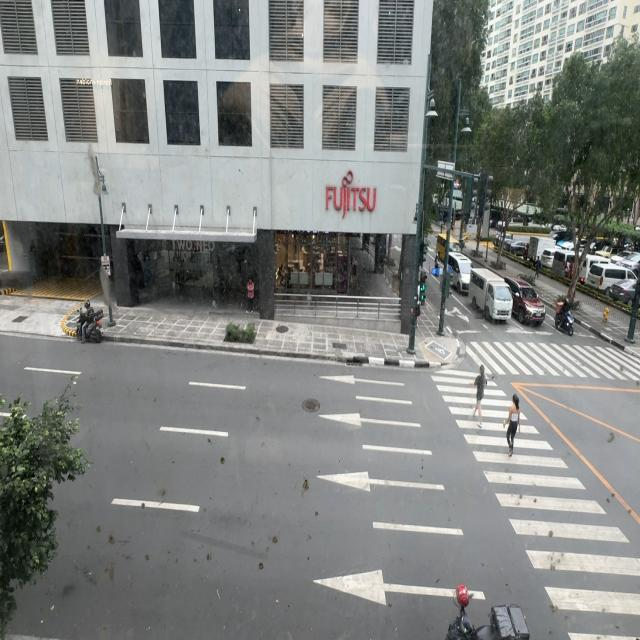crossing: (470, 364, 490, 424), (505, 393, 521, 457)
pedestrain: (247, 277, 255, 314), (535, 256, 541, 280)
